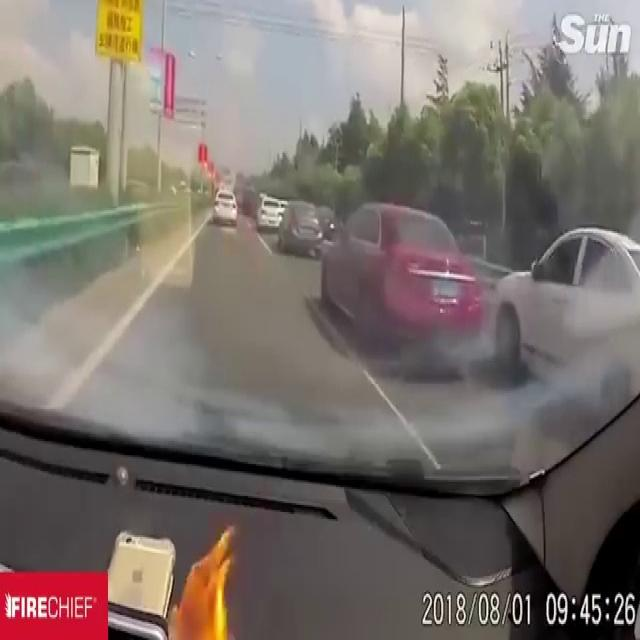fire: (168, 530, 234, 640)
